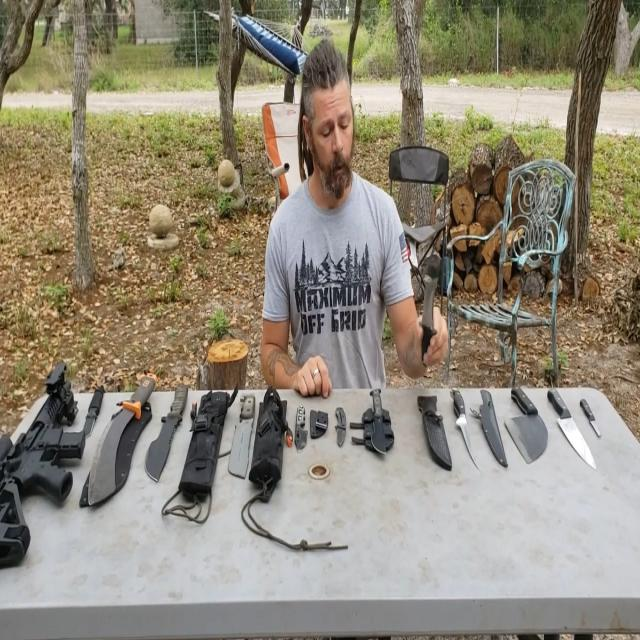knife: (72, 373, 158, 517), (139, 386, 192, 495), (547, 374, 608, 468), (502, 381, 552, 478), (224, 368, 260, 499), (453, 372, 488, 484), (365, 373, 397, 462), (81, 372, 112, 440), (328, 394, 358, 455), (577, 393, 604, 446), (294, 395, 311, 454)
long weapon: (0, 345, 100, 567)
